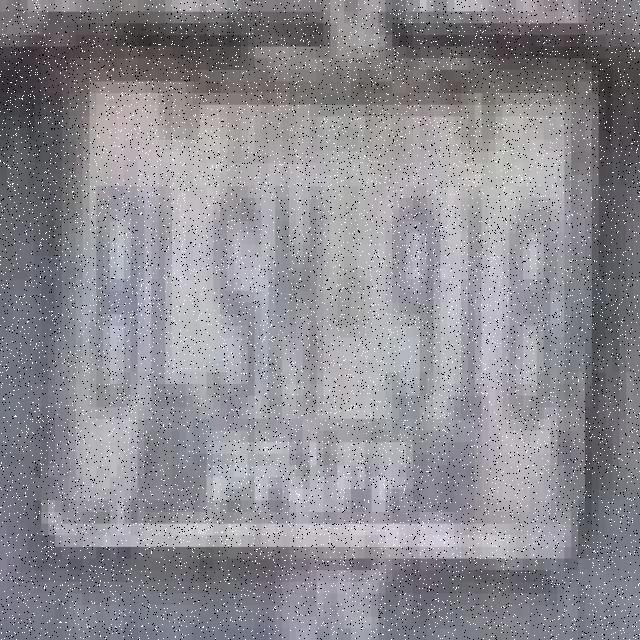licenseplate: (44, 52, 606, 596)
